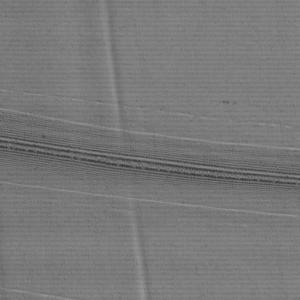Wrinkle: (99, 1, 136, 156), (125, 177, 157, 300)
